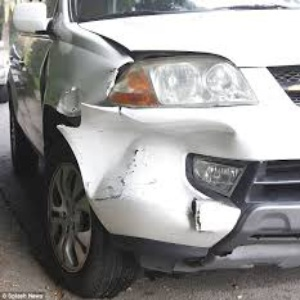bumper: (61, 105, 181, 224)
